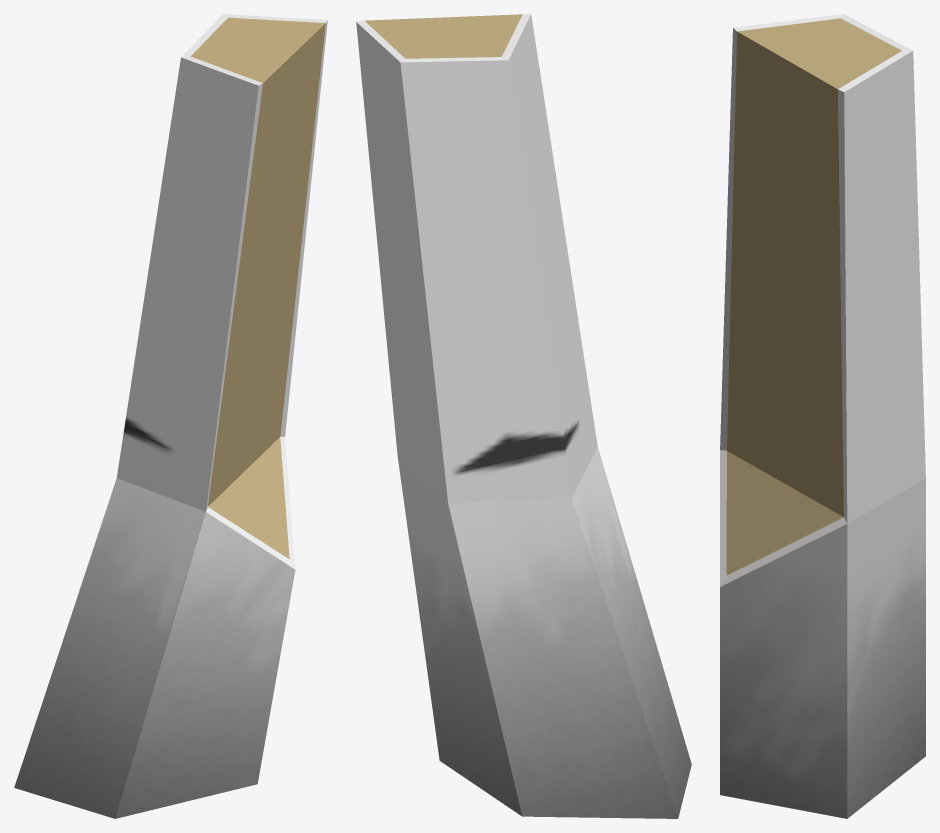
Rendered from Birch_Stump_01.fbx.
3 views of the same model, side by side, from view 1: azimuth 30°, elevation 25°; view 2: azimuth 150°, elevation 25°; view 3: azimuth 270°, elevation 25° (orthographic). The views are drawn at different scales.
Parts seen in each view (by area): view 1: Birch_Stump_01; view 2: Birch_Stump_01; view 3: Birch_Stump_01.
Boxes of the visible parts, x1=… form: Birch_Stump_01: x1=14, y1=14, x2=327, y2=818; Birch_Stump_01: x1=356, y1=14, x2=691, y2=818; Birch_Stump_01: x1=720, y1=14, x2=925, y2=818.
Size of the model in its own units: 76.21 by 162 by 39.07.
